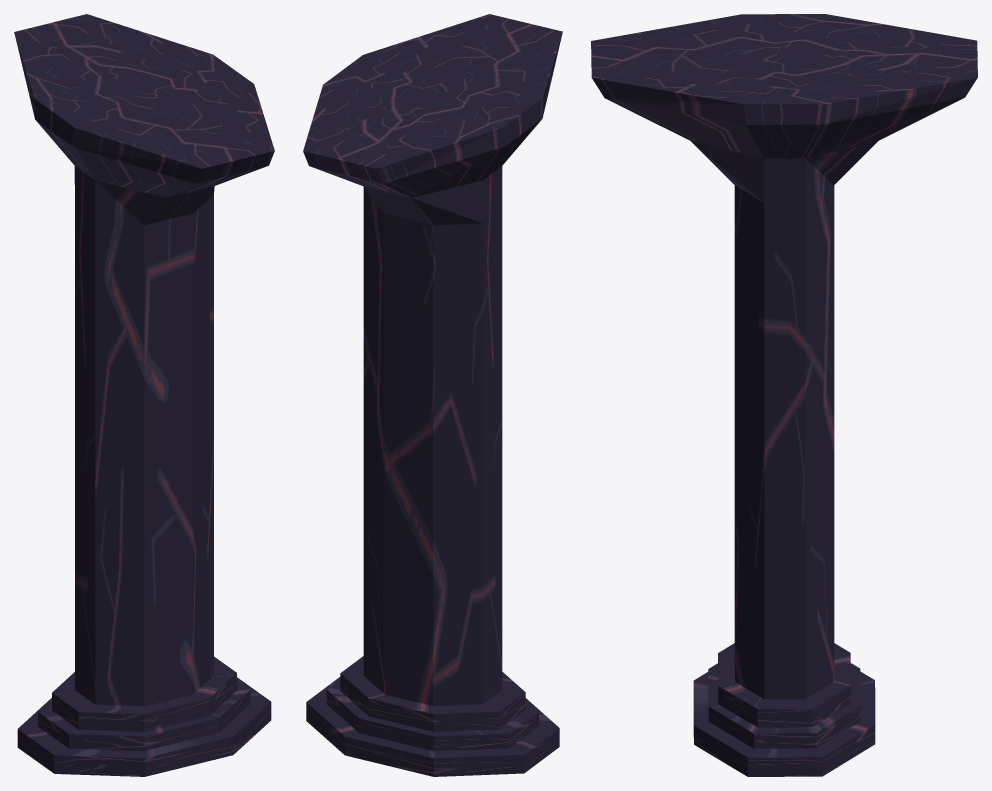
The model's file is POTEAU_INTACT.obj.
The picture shows the model from 3 angles, left to right: view 1: azimuth 30°, elevation 25°; view 2: azimuth 150°, elevation 25°; view 3: azimuth 270°, elevation 25°; orthographic projection. The views are drawn at different scales.
Parts seen in each view (by area): view 1: POTEAU_INTACT; view 2: POTEAU_INTACT; view 3: POTEAU_INTACT.
Boxes of the visible parts, x1,y1,x2,y2 form: POTEAU_INTACT: (14, 14, 274, 776); POTEAU_INTACT: (303, 14, 562, 776); POTEAU_INTACT: (591, 14, 977, 776).
Size of the model in its own units: 1.13 by 3.18 by 1.68.
1 material, 1 textured.
